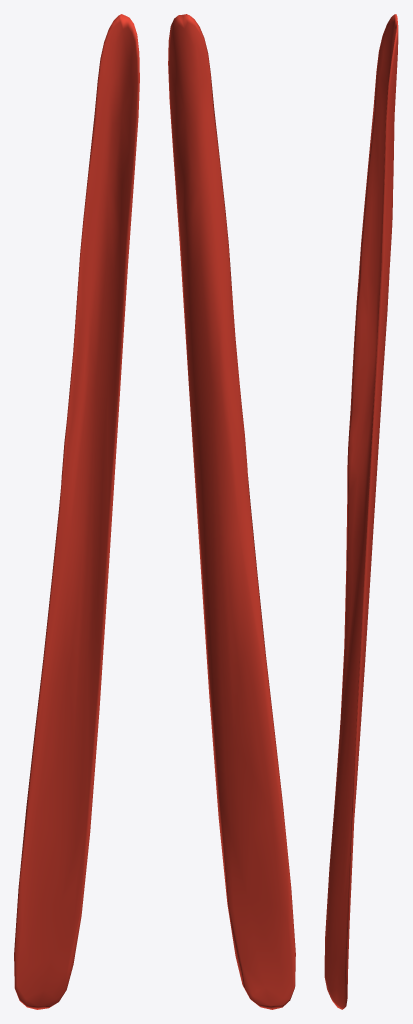
Rendered from Fibularis_brevis_lateral_fibula_left.glb.
3 renders of one model, left to right at view 1: azimuth 30°, elevation 25°; view 2: azimuth 210°, elevation 25°; view 3: azimuth 330°, elevation 25°, orthographic. The views are drawn at different scales.
Visible parts, largest first — view 1: Fibularis_brevis_on_lateral_side_of_fibula.l_Generated_Mesh_; view 2: Fibularis_brevis_on_lateral_side_of_fibula.l_Generated_Mesh_; view 3: Fibularis_brevis_on_lateral_side_of_fibula.l_Generated_Mesh_.
Boxes of the visible parts, box(x1,y1,x2,y2) form: Fibularis_brevis_on_lateral_side_of_fibula.l_Generated_Mesh_: box(14, 14, 139, 1009); Fibularis_brevis_on_lateral_side_of_fibula.l_Generated_Mesh_: box(168, 14, 295, 1009); Fibularis_brevis_on_lateral_side_of_fibula.l_Generated_Mesh_: box(324, 14, 398, 1009).
Size of the model in its own units: 0.0164 by 0.1621 by 0.00986.
